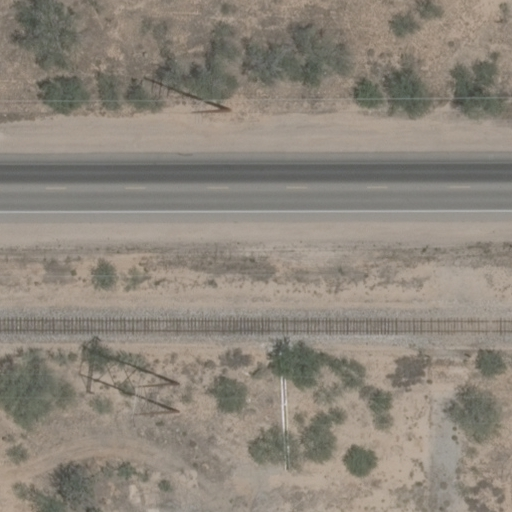DT: (139, 73, 239, 114)
TT: (78, 342, 184, 416)
